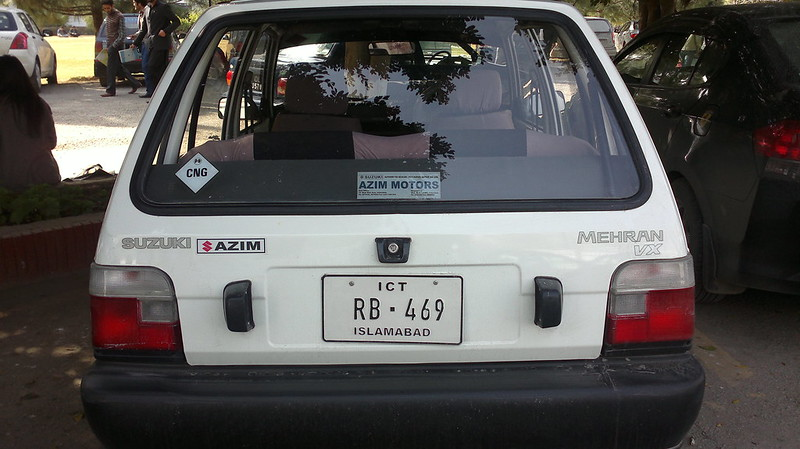number_plate: (316, 268, 471, 353)
